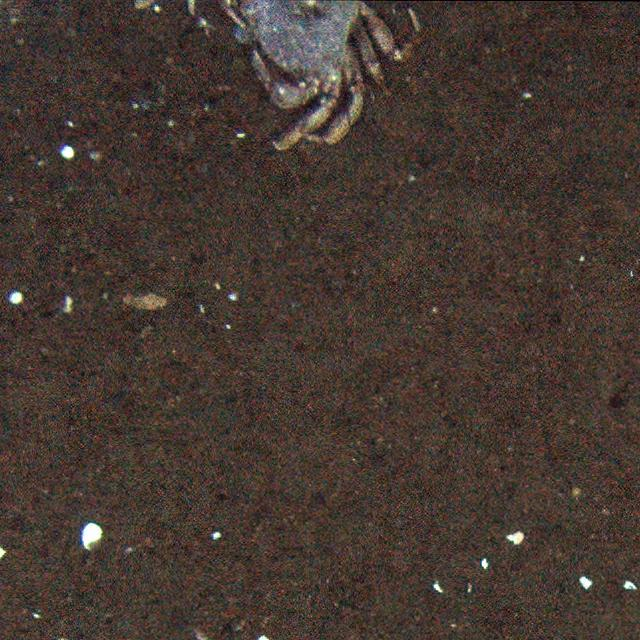crab: (211, 0, 391, 152)
